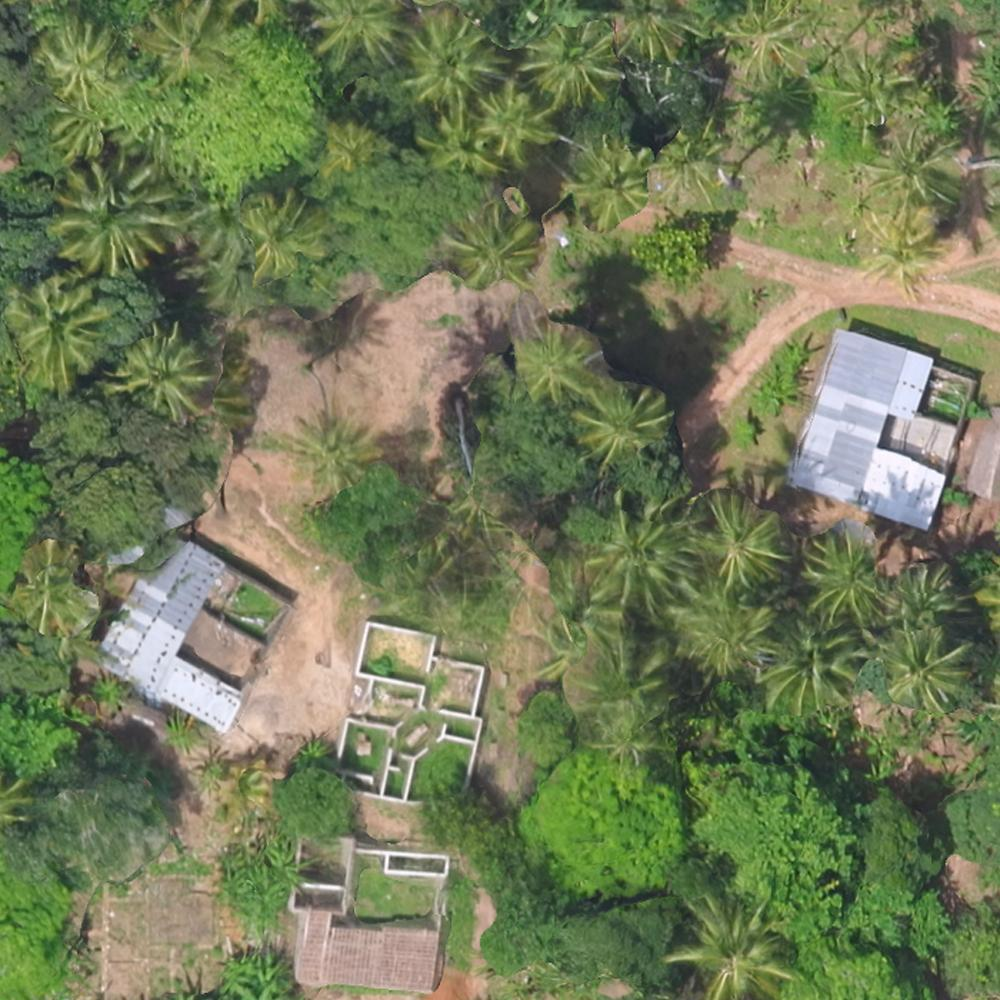Palm: (673, 891, 793, 996), (54, 158, 168, 267), (758, 611, 862, 713), (3, 280, 101, 379), (585, 511, 686, 606), (526, 14, 625, 108), (401, 10, 502, 98), (876, 627, 969, 714), (694, 491, 787, 578), (797, 533, 891, 619), (119, 326, 207, 417), (446, 208, 536, 292), (510, 322, 597, 406), (861, 208, 946, 292), (867, 124, 952, 205), (567, 142, 651, 222), (242, 190, 321, 274), (580, 382, 666, 458), (469, 89, 558, 161), (883, 561, 958, 631), (319, 110, 384, 172)
